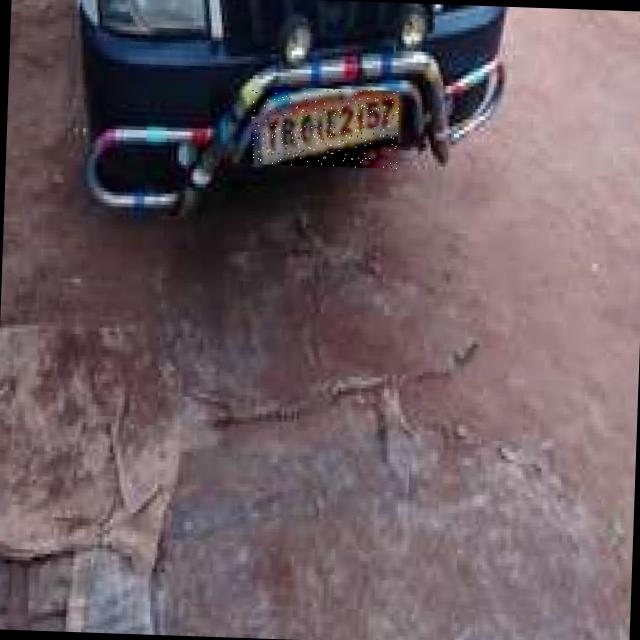Plate: (250, 87, 400, 170)
